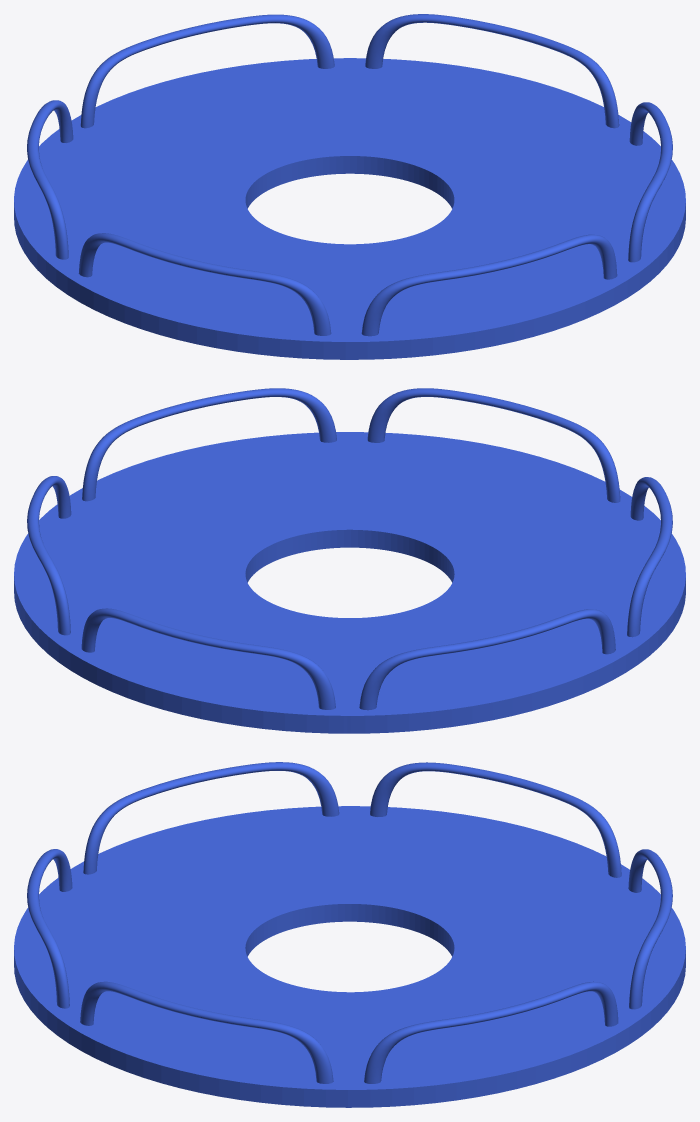
File: CIRCULAR PLtform.fbx
3 renders of one model, top to bottom at view 1: azimuth 30°, elevation 25°; view 2: azimuth 150°, elevation 25°; view 3: azimuth 270°, elevation 25°, orthographic.
Visible parts, largest first — view 1: Cube; view 2: Cube; view 3: Cube.
Part boxes in pixels (<box>): Cube: <box>14,14,685,359</box>; Cube: <box>14,388,685,733</box>; Cube: <box>14,762,685,1107</box>.
Bounding box in the file's own units: 938 × 114 × 938.
